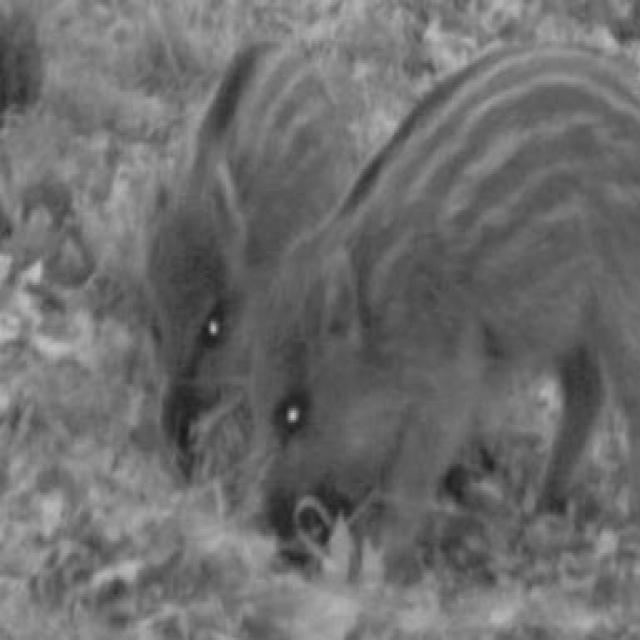pig: (252, 97, 640, 565), (103, 1, 255, 430)
